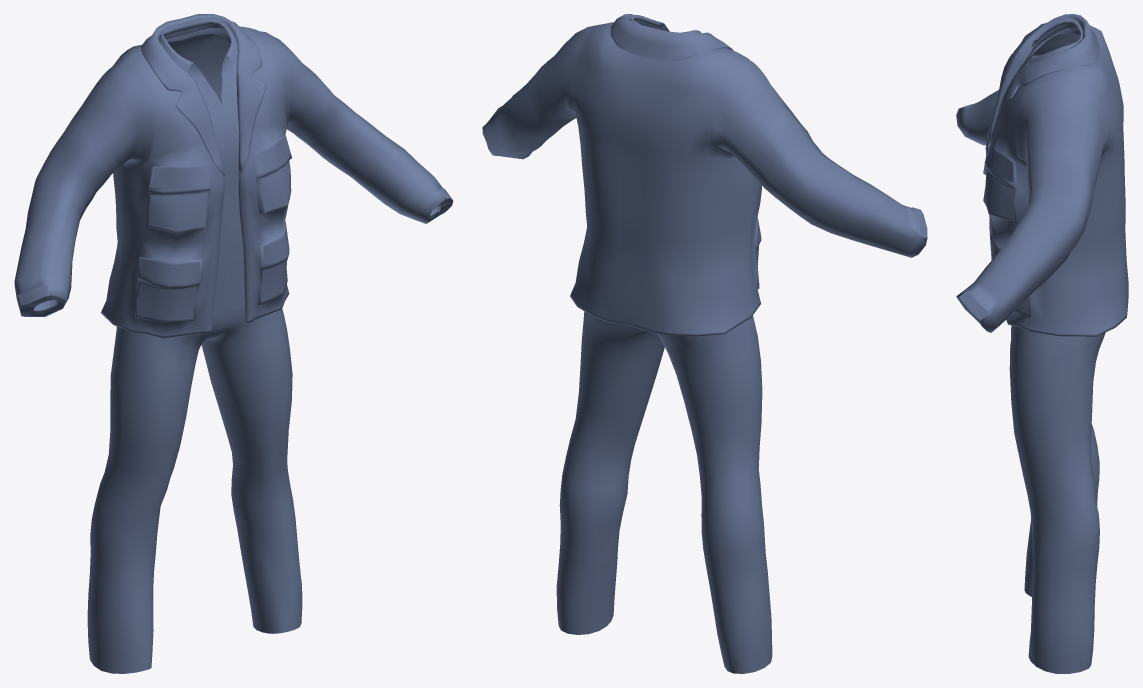
Rendered from casual-pants02.glb.
3 views of the same model, side by side, from view 1: azimuth 30°, elevation 25°; view 2: azimuth 150°, elevation 25°; view 3: azimuth 270°, elevation 25° (orthographic). The views are drawn at different scales.
Parts seen in each view (by area): view 1: casual-pants02; view 2: casual-pants02; view 3: casual-pants02.
Part boxes in pixels (x1,y1,x2,y2): casual-pants02: [14, 14, 453, 673]; casual-pants02: [482, 14, 927, 673]; casual-pants02: [956, 14, 1128, 673].
Size of the model in its own units: 1.04 by 1.42 by 0.3714.
